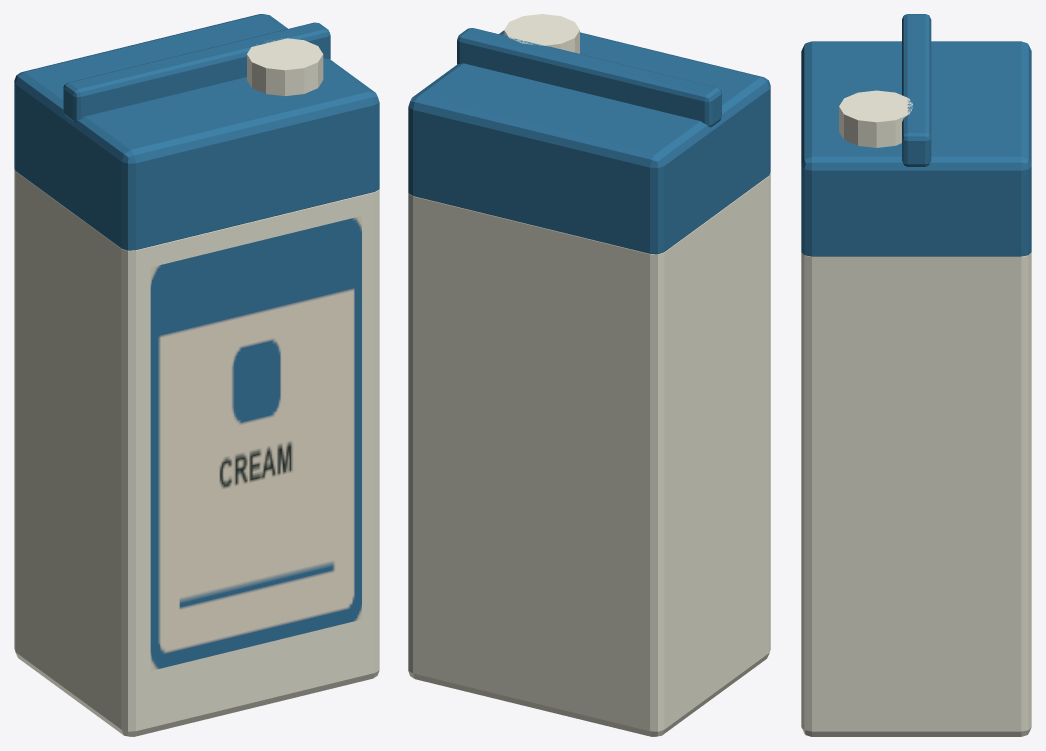
File: cream.fbx
The picture shows the model from 3 angles, left to right: view 1: azimuth 30°, elevation 25°; view 2: azimuth 150°, elevation 25°; view 3: azimuth 270°, elevation 25°; orthographic projection.
Parts seen in each view (by area): view 1: cream; view 2: cream; view 3: cream.
Boxes of the visible parts, box(x1,y1,x2,y2) form: cream: box(14, 14, 379, 736); cream: box(408, 14, 770, 736); cream: box(801, 14, 1031, 736).
Bounding box in the file's own units: 14 × 31.9 × 11.1.
